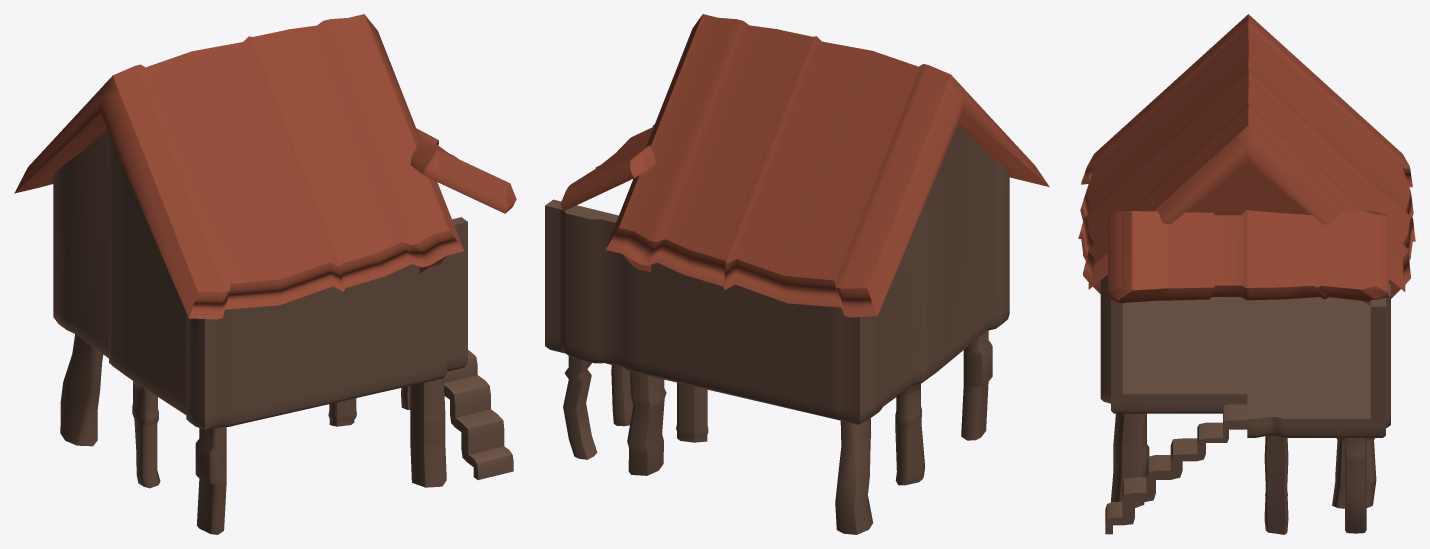
File: Hut.fbx
3 views of the same model, side by side, from view 1: azimuth 30°, elevation 25°; view 2: azimuth 150°, elevation 25°; view 3: azimuth 270°, elevation 25° (orthographic). The views are drawn at different scales.
Visible parts, largest first — view 1: PointedRoof, Base, SlantedRoof; view 2: Base, PointedRoof, SlantedRoof; view 3: Base, PointedRoof, SlantedRoof.
Part boxes in pixels (box(x1,y1,x2,y2)): PointedRoof: box(14, 14, 464, 319); Base: box(53, 129, 513, 534); SlantedRoof: box(410, 128, 516, 213); Base: box(545, 124, 1009, 534); PointedRoof: box(605, 14, 1049, 317); SlantedRoof: box(560, 124, 655, 210); Base: box(1100, 274, 1390, 534); PointedRoof: box(1078, 14, 1415, 305); SlantedRoof: box(1108, 210, 1388, 302).
Size of the model in its own units: 10.6 by 12.34 by 9.83.
